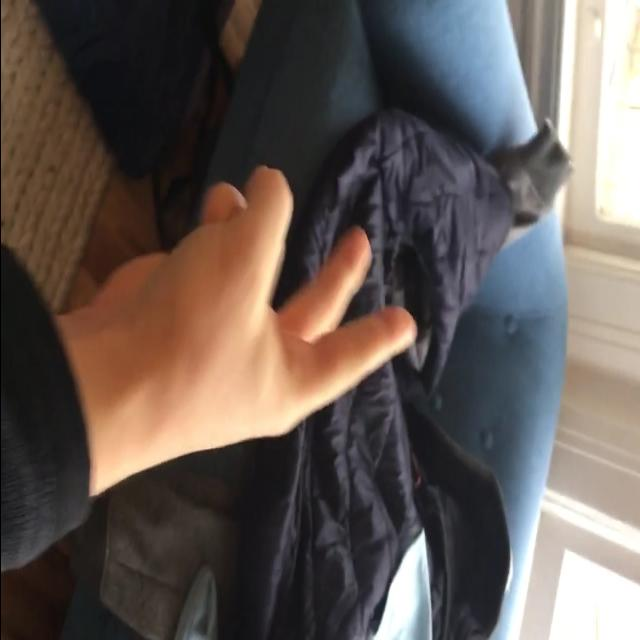Scissors: (100, 167, 418, 463)
